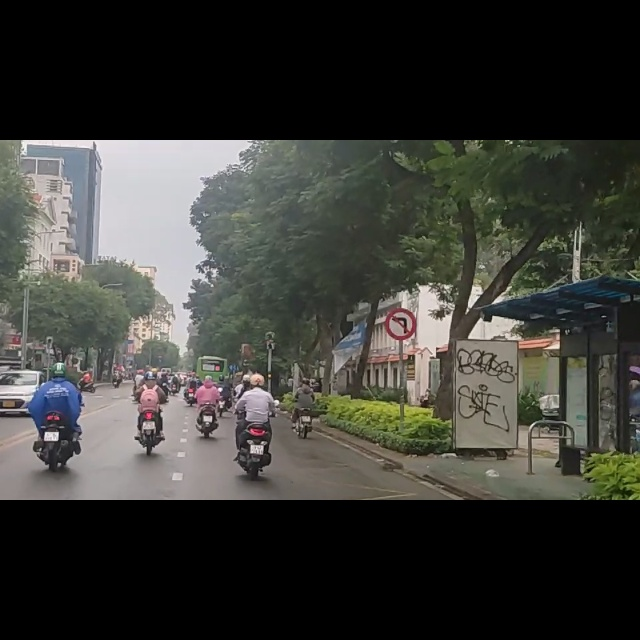bien_hieu_lenh: (389, 303, 417, 354)
